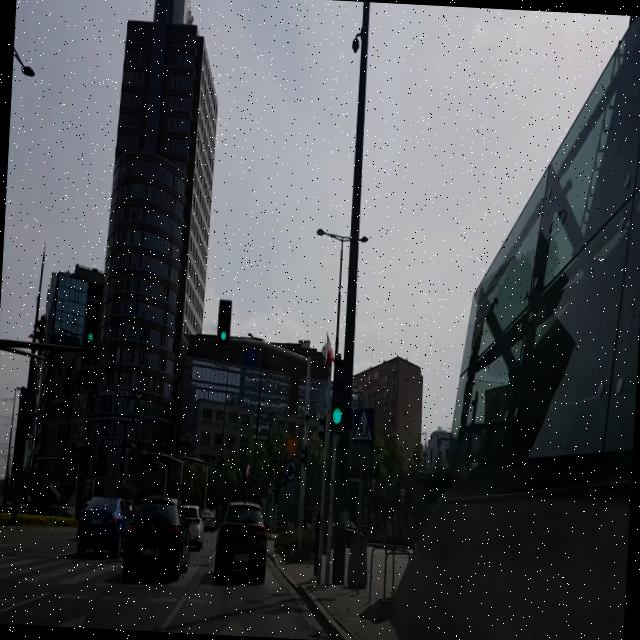Ustap pierwszenstwa: (286, 436, 298, 459)
